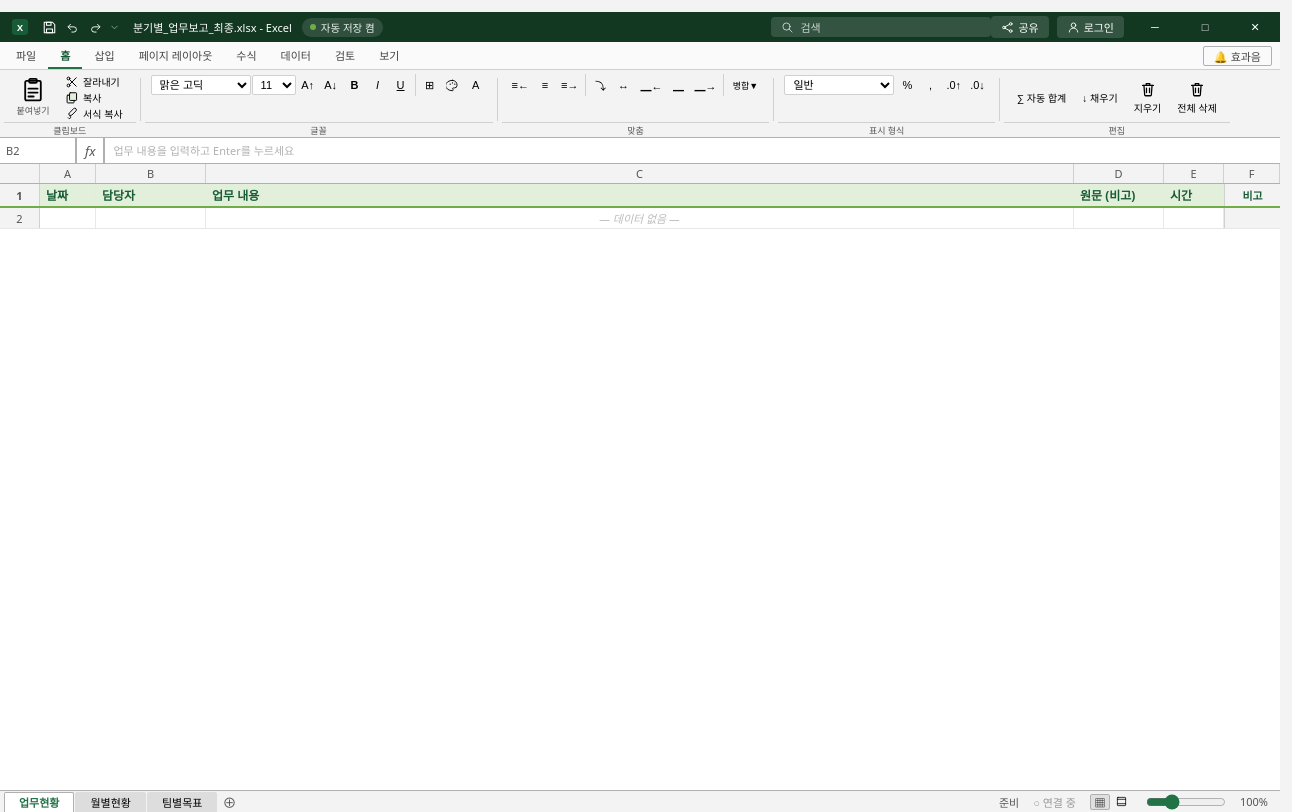
App - 전체 삭제 › 확인 다이얼로그에서 승인하면 모든 메시지를 지운다
Type "안녕하세요" into the field with placeholder "업무 내용을 입력하고 Enter를 누르세요".
click(693, 150); type("안녕하세요")  # box [105,138,1280,163]
Then press Enter
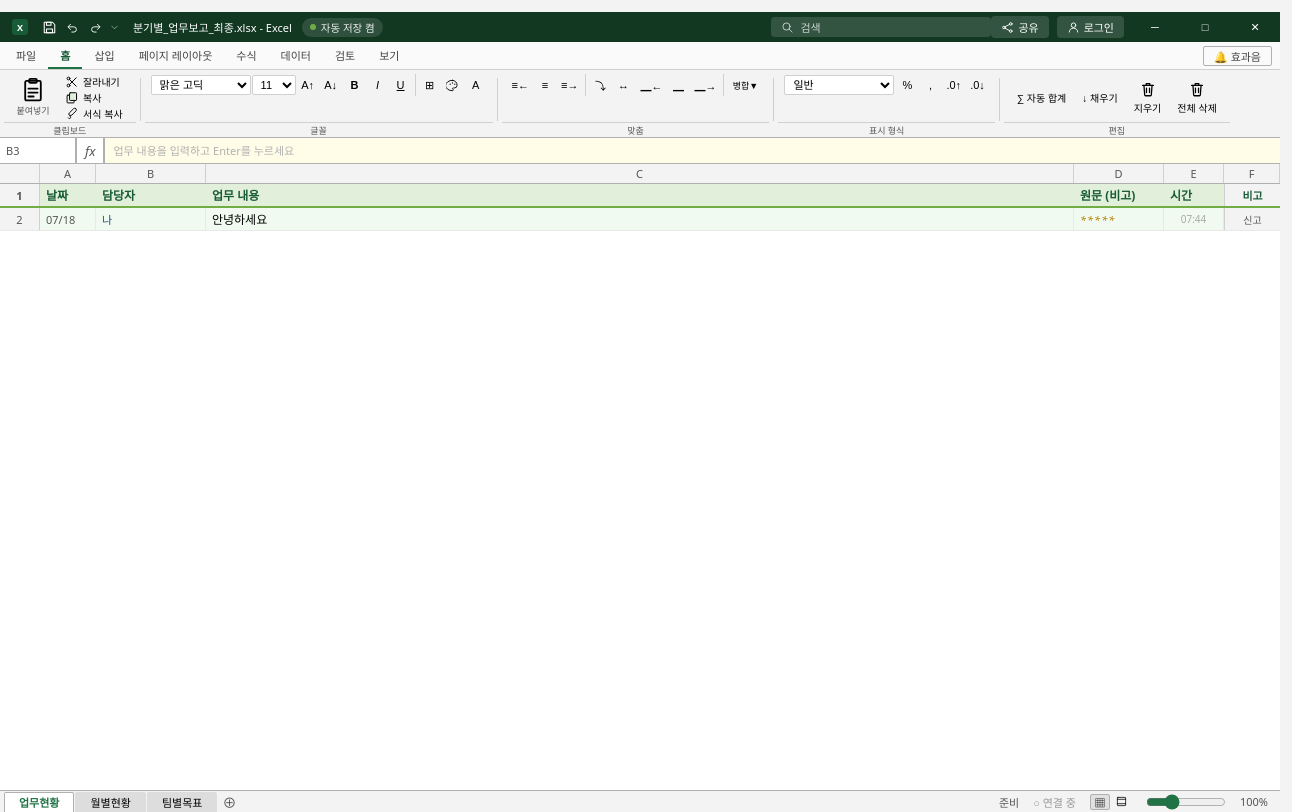
Now the text "안녕하세요" is shown, box [206,208,1074,230]
Click the button "전체 삭제".
click(1197, 97)  # box [1170,74,1224,120]
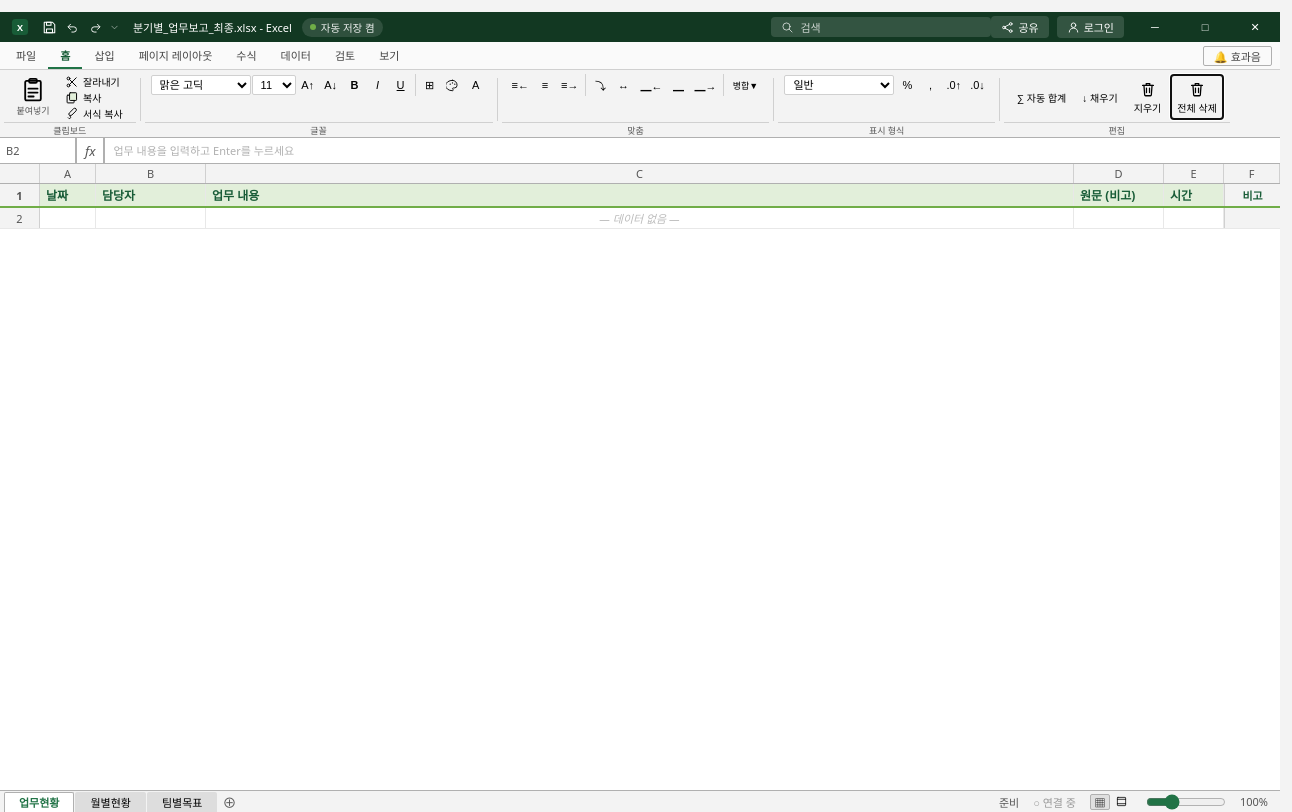
Now the text "안녕하세요" is gone
Now the text "— 데이터 없음 —" is shown, box [206,208,1074,228]
